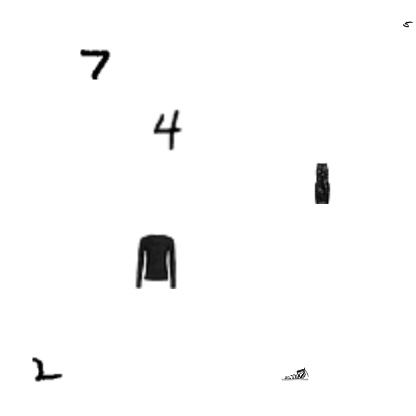2: (22, 350, 64, 392)
4: (140, 100, 196, 156)
5: (400, 17, 414, 31)
7: (76, 39, 118, 81)
Dress: (300, 162, 342, 204)
Pullover: (128, 233, 184, 289)
Sandal: (281, 360, 309, 388)
